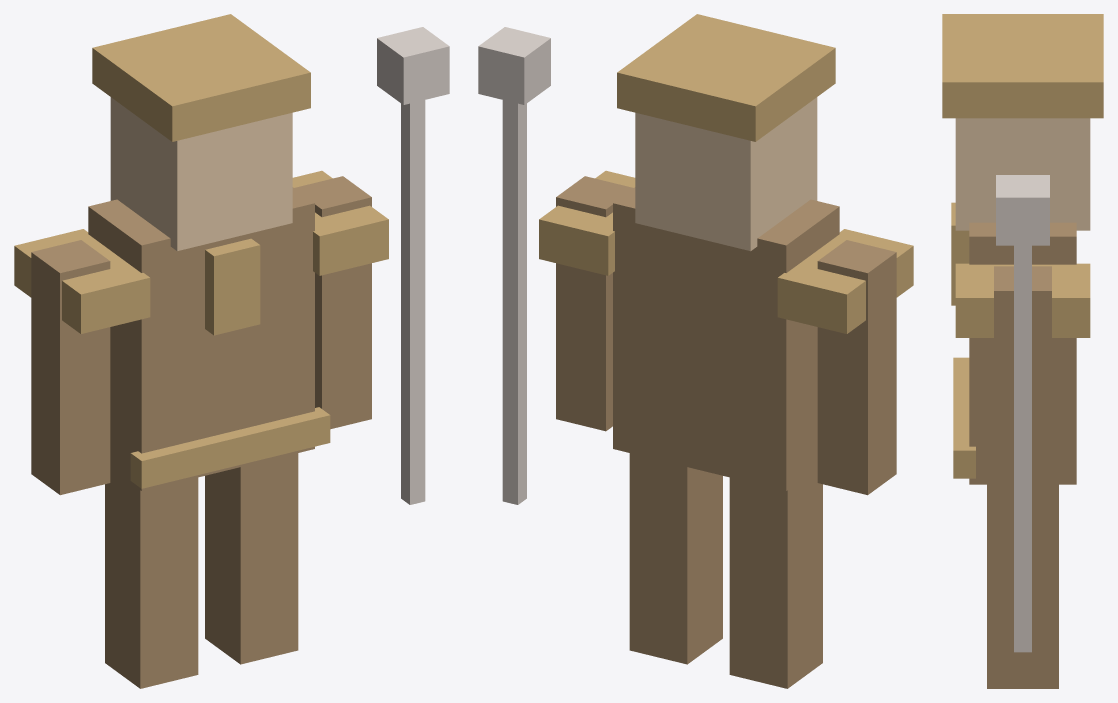
Rendered from 13_tovin_stormhush_keeper_of_standing.glb.
3 views of the same model, side by side, from view 1: azimuth 30°, elevation 25°; view 2: azimuth 150°, elevation 25°; view 3: azimuth 270°, elevation 25° (orthographic).
Visible parts, largest first — view 1: Tovin Stormhush, Keeper of Standing; view 2: Tovin Stormhush, Keeper of Standing; view 3: Tovin Stormhush, Keeper of Standing.
Boxes of the visible parts, bbox=[...] form: Tovin Stormhush, Keeper of Standing: bbox=[14, 14, 449, 688]; Tovin Stormhush, Keeper of Standing: bbox=[478, 14, 913, 688]; Tovin Stormhush, Keeper of Standing: bbox=[942, 14, 1103, 688].
Size of the model in its own units: 0.9729 by 1.42 by 0.3451.
